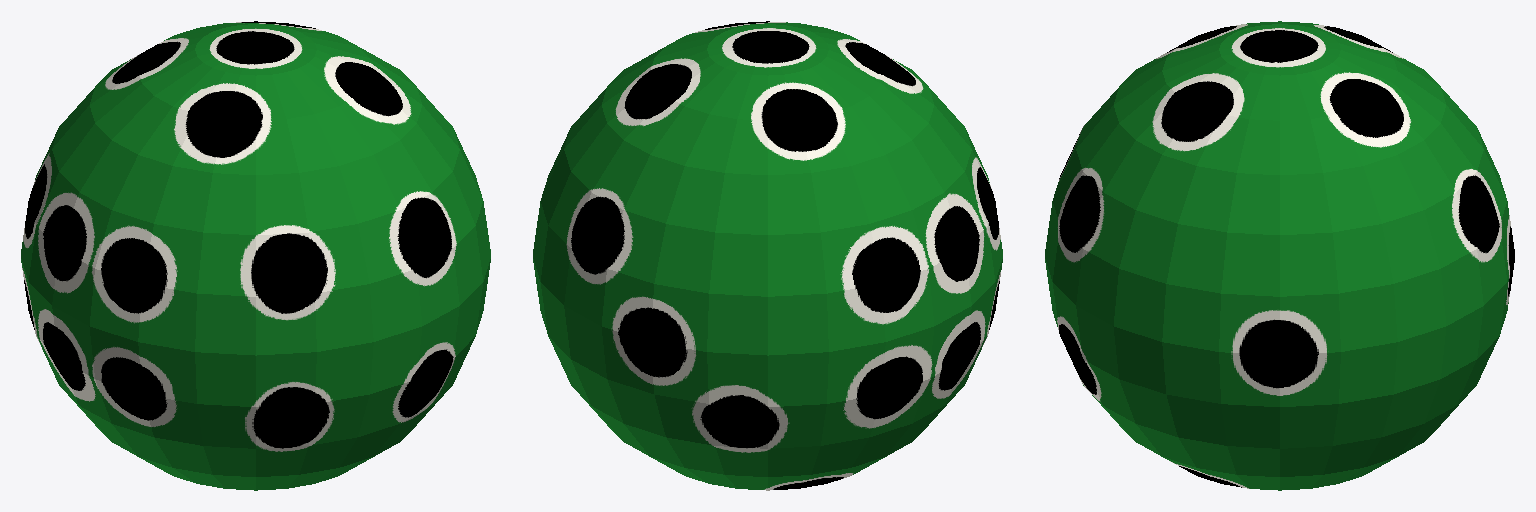
3 views of the same model, side by side, from view 1: azimuth 30°, elevation 25°; view 2: azimuth 150°, elevation 25°; view 3: azimuth 270°, elevation 25° (orthographic).
Parts seen in each view (by area): view 1: Sphere_None; view 2: Sphere_None; view 3: Sphere_None.
Part boxes in pixels (x1,y1,x2,y2): Sphere_None: (21, 21, 490, 490); Sphere_None: (533, 21, 1002, 490); Sphere_None: (1045, 21, 1514, 490).
Size of the model in its own units: 2 by 2 by 2.
Materials: 1 (1 with a texture image).